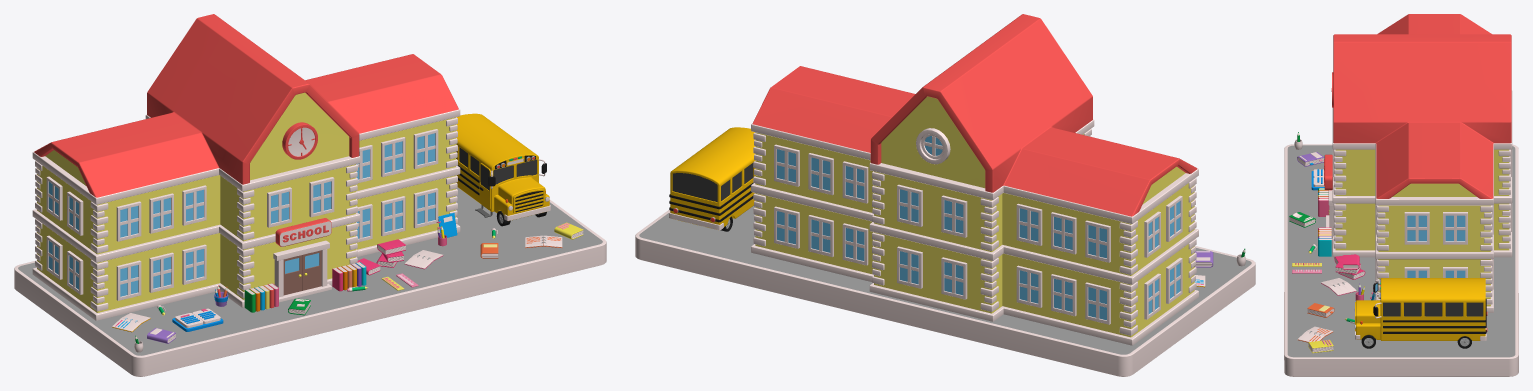
File: Public_Island_8.glb
3 views of the same model, side by side, from view 1: azimuth 30°, elevation 25°; view 2: azimuth 150°, elevation 25°; view 3: azimuth 270°, elevation 25° (orthographic). The views are drawn at different scales.
Visible parts, largest first — view 1: Public_8_School_1, Public_8_Base_1, Public_8_School_Bus_1, Public_8_School_Sign_1, Public_8_Clock_1, Public_8_Books_1, Public_8_Books_2, Public_8_Book_1; view 2: Public_8_School_1, Public_8_Base_1, Public_8_School_Bus_1; view 3: Public_8_School_1, Public_8_Base_1, Public_8_School_Bus_1, Public_8_Books_2, Public_8_Notebook_1, Public_8_Notebook_2, Public_8_School_Sign_1, Public_8_Books_1, Public_8_Book_6, Public_8_Book_2, Public_8_Book_5, Public_8_Book_4 (+2 smaller).
Part boxes in pixels (box(x1,y1,x2,y2)): Public_8_School_1: box(32, 14, 460, 320); Public_8_Base_1: box(14, 187, 606, 376); Public_8_School_Bus_1: box(456, 113, 550, 226); Public_8_School_Sign_1: box(275, 218, 331, 246); Public_8_Clock_1: box(282, 122, 317, 159); Public_8_Books_1: box(244, 283, 278, 312); Public_8_Books_2: box(332, 262, 366, 291); Public_8_Book_1: box(172, 308, 223, 331); Public_8_School_1: box(751, 14, 1198, 345); Public_8_Base_1: box(635, 205, 1255, 376); Public_8_School_Bus_1: box(669, 127, 755, 231); Public_8_School_1: box(1326, 14, 1512, 312); Public_8_Base_1: box(1284, 144, 1518, 376); Public_8_School_Bus_1: box(1354, 278, 1487, 348); Public_8_Books_2: box(1318, 227, 1331, 256); Public_8_Notebook_1: box(1321, 278, 1356, 295); Public_8_Notebook_2: box(1297, 326, 1333, 342); Public_8_School_Sign_1: box(1324, 154, 1332, 190); Public_8_Books_1: box(1318, 188, 1329, 216); Public_8_Book_6: box(1307, 303, 1334, 317); Public_8_Book_2: box(1289, 212, 1315, 227); Public_8_Book_5: box(1297, 152, 1324, 166); Public_8_Book_4: box(1308, 339, 1333, 353).
Size of the model in its own units: 31.86 by 14.58 by 14.71.
Materials: 34 (34 with a texture image).
